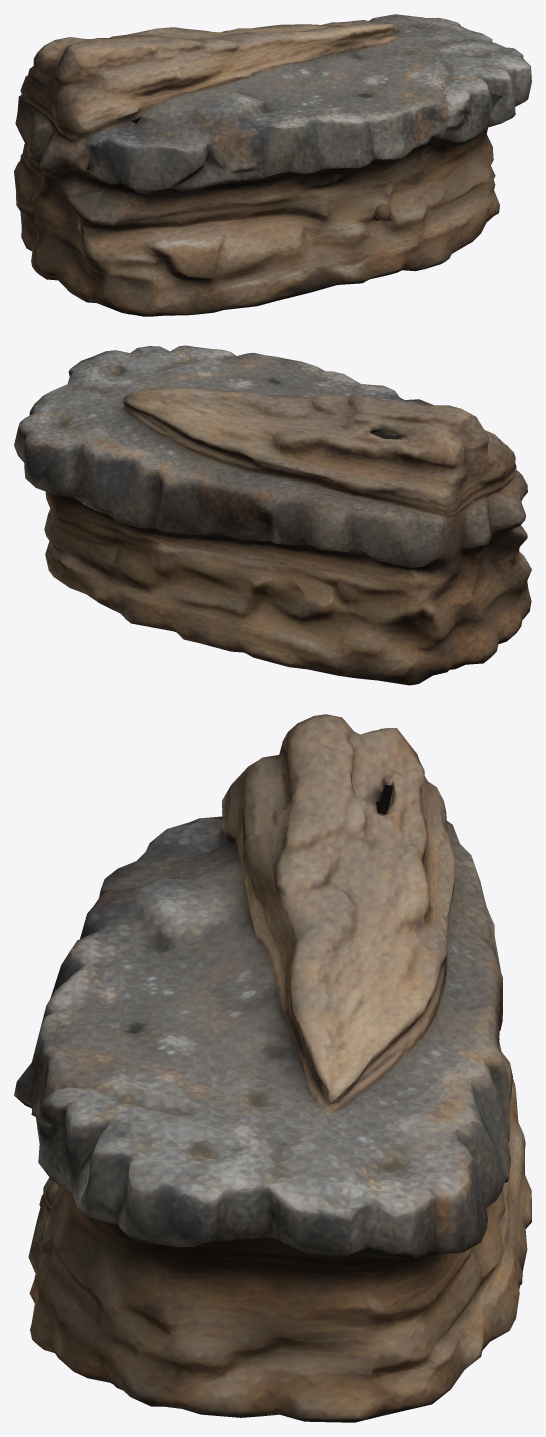
The picture shows the model from 3 angles, top to bottom: view 1: azimuth 30°, elevation 25°; view 2: azimuth 150°, elevation 25°; view 3: azimuth 270°, elevation 25°; orthographic projection. The views are drawn at different scales.
Parts seen in each view (by area): view 1: geometry_0; view 2: geometry_0; view 3: geometry_0.
Boxes of the visible parts, box(x1,y1,x2,y2) form: geometry_0: box(14, 14, 531, 316); geometry_0: box(14, 345, 531, 685); geometry_0: box(14, 714, 531, 1422).
Bounding box in the file's own units: 14 × 6.88 × 7.94.
Materials: 7 (3 with a texture image).
